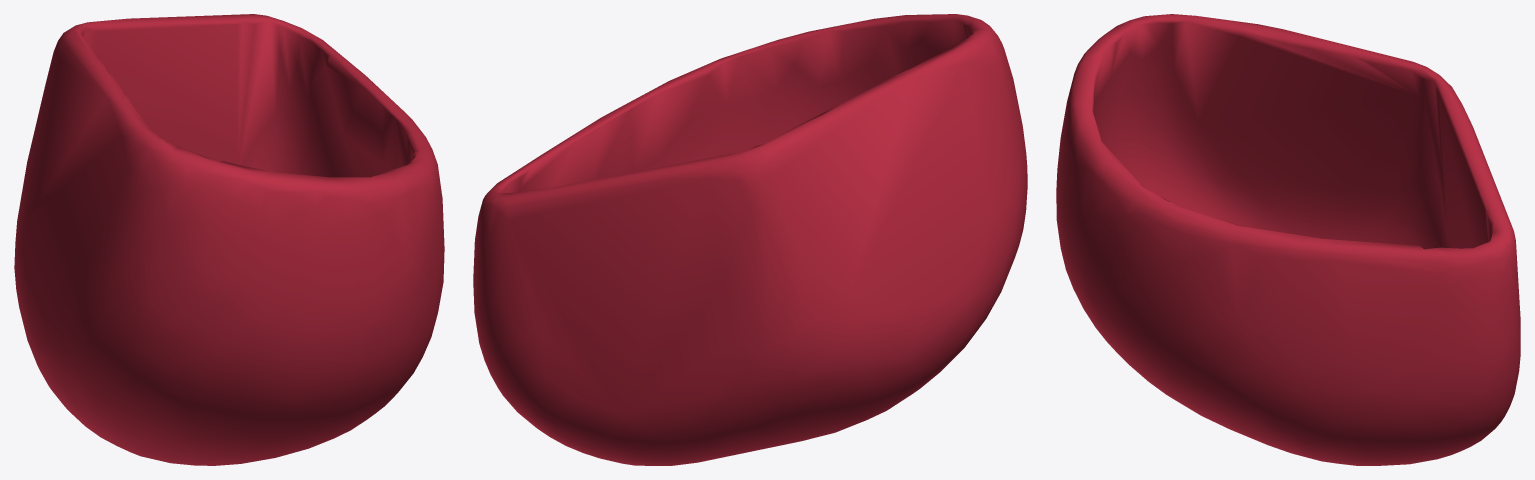
File: anterior-semilunar-leaflet-of-pulmonary-valve.glb
The picture shows the model from 3 angles, left to right: view 1: azimuth 30°, elevation 25°; view 2: azimuth 150°, elevation 25°; view 3: azimuth 270°, elevation 25°; orthographic projection. The views are drawn at different scales.
Visible parts, largest first — view 1: Anterior semilunar leaflet of pulmonary valve; view 2: Anterior semilunar leaflet of pulmonary valve; view 3: Anterior semilunar leaflet of pulmonary valve.
Boxes of the visible parts, x1=… form: Anterior semilunar leaflet of pulmonary valve: x1=14, y1=14, x2=444, y2=465; Anterior semilunar leaflet of pulmonary valve: x1=473, y1=14, x2=1027, y2=465; Anterior semilunar leaflet of pulmonary valve: x1=1056, y1=14, x2=1520, y2=465.
Bounding box in the file's own units: 0.0185 × 0.0172 × 0.0208.
